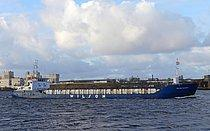Ship: (11, 70, 201, 101)
